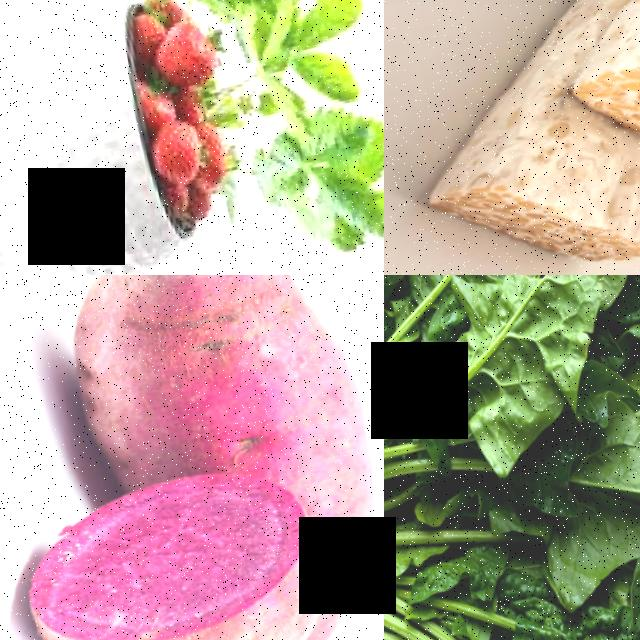spinach: (432, 275, 587, 449), (559, 404, 640, 587), (398, 275, 573, 296)
sweet potato: (31, 275, 376, 503), (0, 453, 346, 640)
tempeh: (405, 79, 640, 275), (542, 0, 640, 195)
